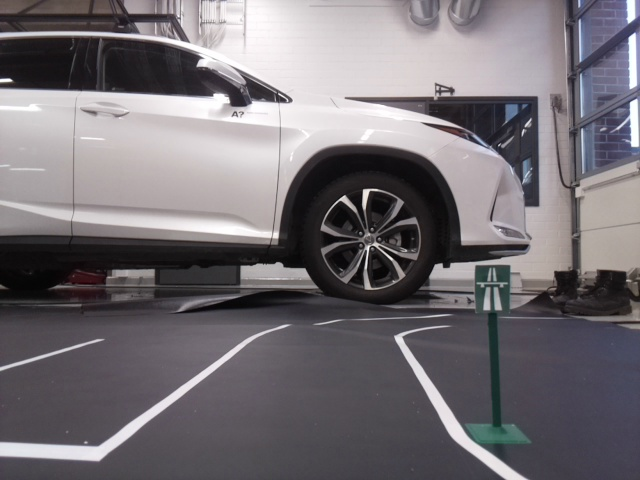HighwayEntrance: (473, 266, 509, 312)
